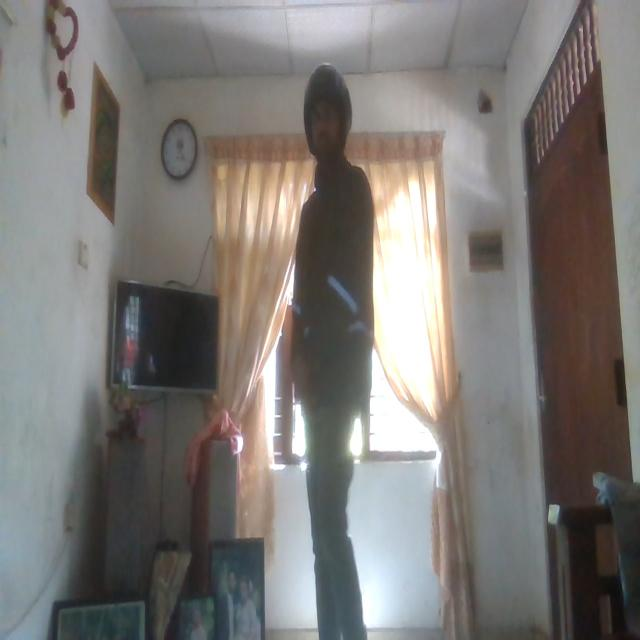Helmet_Wearer: (300, 60, 354, 174)
Jacket_Wearer: (285, 164, 381, 442)
Person: (280, 57, 394, 640)
